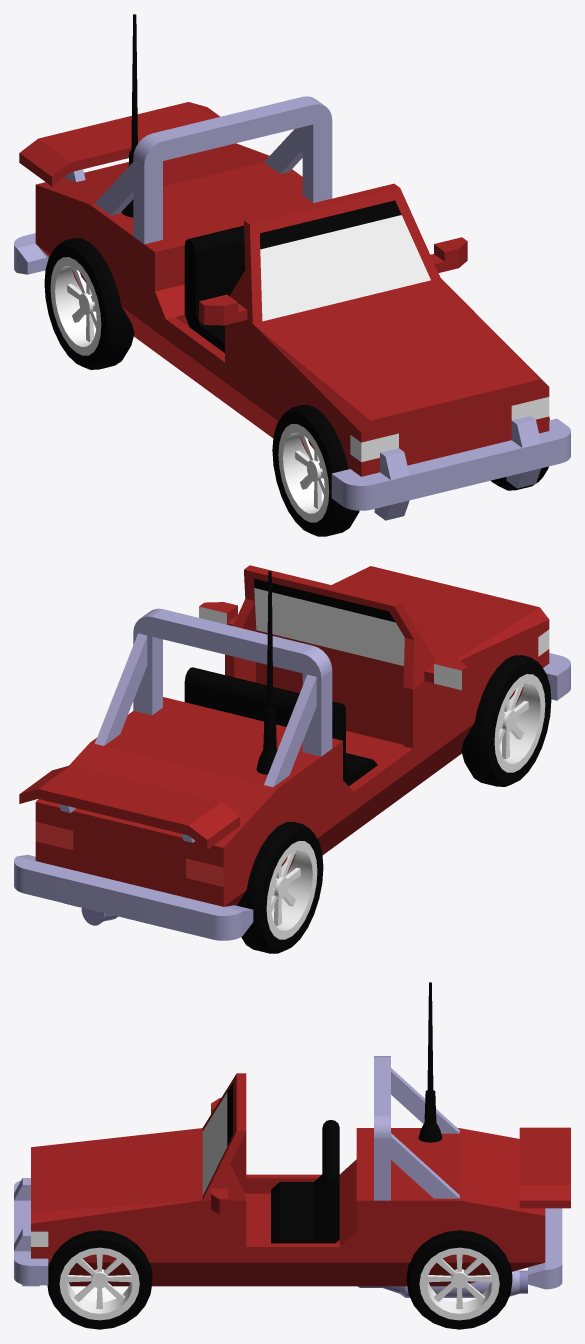
The model's file is Player_Car.fbx.
3 renders of one model, top to bottom at view 1: azimuth 30°, elevation 25°; view 2: azimuth 150°, elevation 25°; view 3: azimuth 270°, elevation 25°, orthographic. The views are drawn at different scales.
Visible parts, largest first — view 1: body_frontLarge, body_topWindshield, body_backStandard, wheel_cycleSpokesDetailed (×2), detail_rollbar, bumper_detailed, body_suv, spoiler_round, detail_seat, detail_mirror (×2), bumper, detail_antenna; view 2: body_backStandard, body_suv, wheel_cycleSpokesDetailed (×2), body_frontLarge, detail_rollbar, body_topWindshield, bumper, spoiler_round, detail_seat (×2), detail_mirror (×2), detail_antenna, bumper_detailed; view 3: body_frontLarge, body_backStandard, body_suv, wheel_cycleSpokesDetailed (×2), detail_seat (×2), detail_rollbar, spoiler_round, body_topWindshield, bumper_detailed, bumper, detail_antenna, detail_exhaustVertical (+1 smaller).
Boxes of the visible parts, x1,y1,x2,y2 form: body_frontLarge: (252, 278, 549, 476); body_topWindshield: (229, 183, 440, 323); body_backStandard: (35, 143, 312, 357); wheel_cycleSpokesDetailed (×2): (44, 238, 359, 536); detail_rollbar: (95, 96, 332, 244); bumper_detailed: (331, 416, 570, 520); body_suv: (144, 198, 331, 436); spoiler_round: (19, 102, 220, 186); detail_seat: (184, 225, 245, 352); detail_mirror (×2): (199, 237, 467, 325); bumper: (14, 233, 48, 274); detail_antenna: (121, 14, 137, 217); body_backStandard: (35, 707, 332, 906); body_suv: (163, 630, 440, 854); wheel_cycleSpokesDetailed (×2): (236, 655, 551, 953); body_frontLarge: (331, 566, 549, 782); detail_rollbar: (95, 608, 332, 787); body_topWindshield: (233, 565, 435, 689); bumper: (14, 854, 253, 940); spoiler_round: (19, 765, 239, 849); detail_seat (×2): (184, 667, 377, 785); detail_mirror (×2): (199, 602, 467, 690); detail_antenna: (256, 571, 277, 774); bumper_detailed: (543, 653, 570, 700); body_frontLarge: (31, 1128, 202, 1286); body_backStandard: (374, 1128, 545, 1286); body_suv: (202, 1128, 373, 1286); wheel_cycleSpokesDetailed (×2): (47, 1230, 512, 1329); detail_seat (×2): (271, 1120, 339, 1243); detail_rollbar: (374, 1056, 459, 1200); spoiler_round: (519, 1127, 570, 1208); body_topWindshield: (202, 1073, 246, 1200); bumper_detailed: (14, 1178, 48, 1286); bumper: (528, 1208, 562, 1289); detail_antenna: (418, 982, 442, 1142); detail_exhaustVertical: (358, 1270, 527, 1297).
Bounding box in the file's own units: 14 × 18.08 × 32.5.
